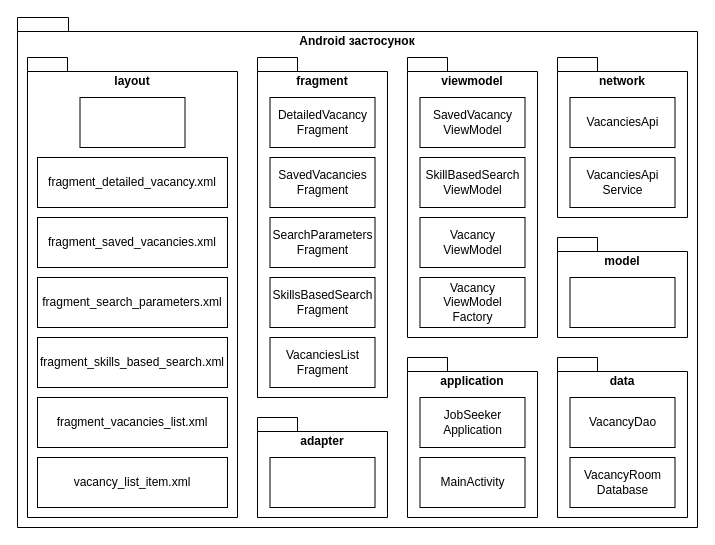
This 715x545 diagram has some shape labels left out. Here are the shapes that lost their labels. From the top down, the centre of each, then its label:
At [132,122]: "activity_main.xml".
At [622,302]: "Vacancy".
At [322,482]: "VacancyList Adapter".
